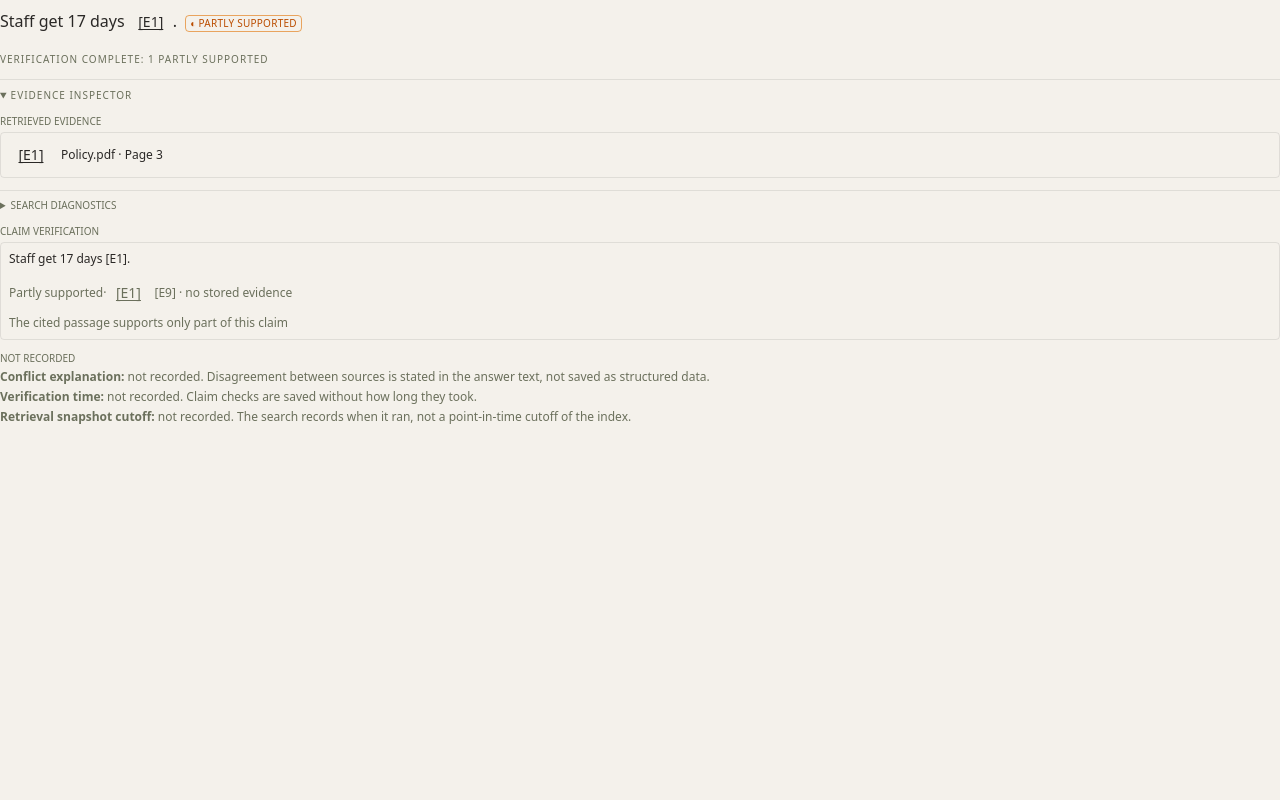
citation viewer states › shows a loading state while the citation is fetched
Step 1. Click the button "[E1]" next to "E9" → (128, 293), box [106,271,150,315]
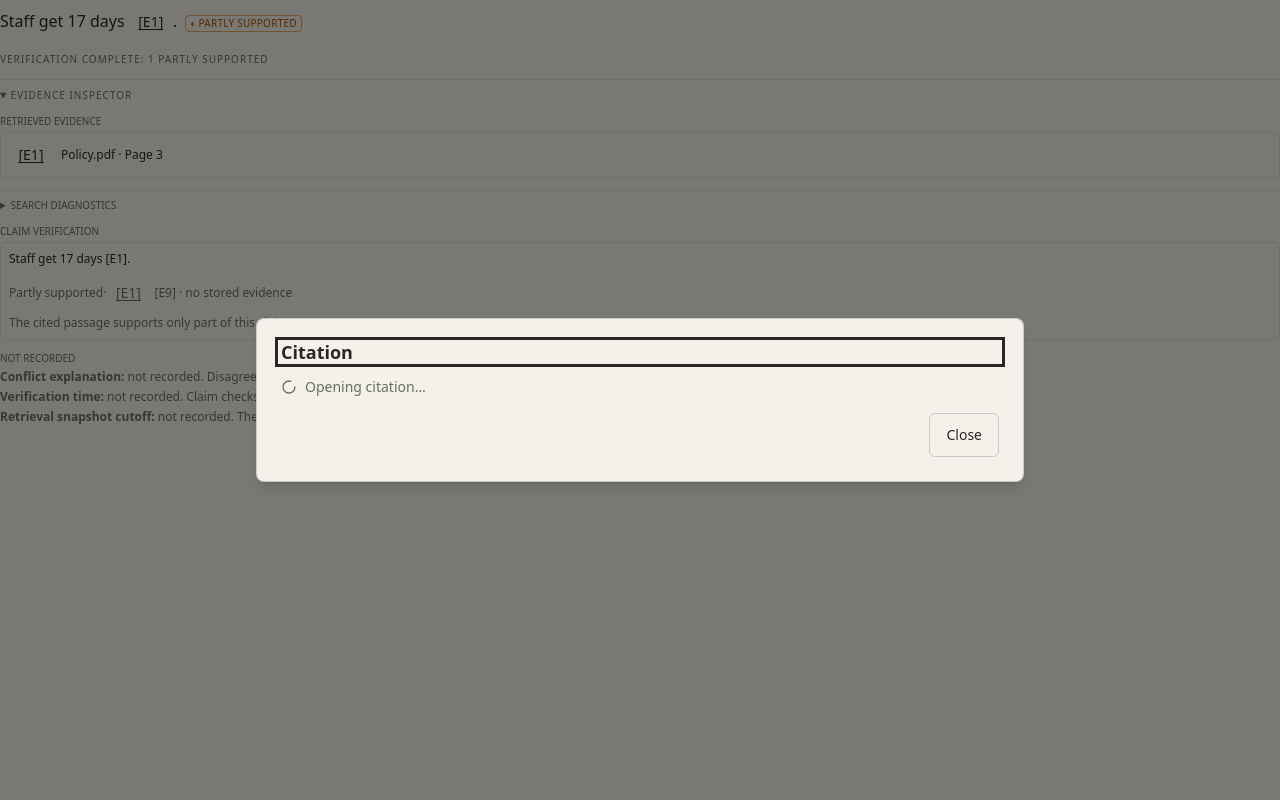
Result: the dialog shows "Opening citation" at [305,377,426,396]
